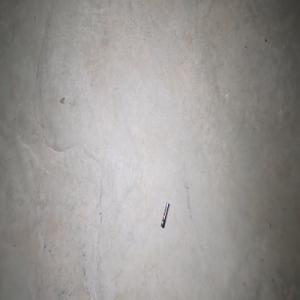Battery: (160, 200, 170, 228)
